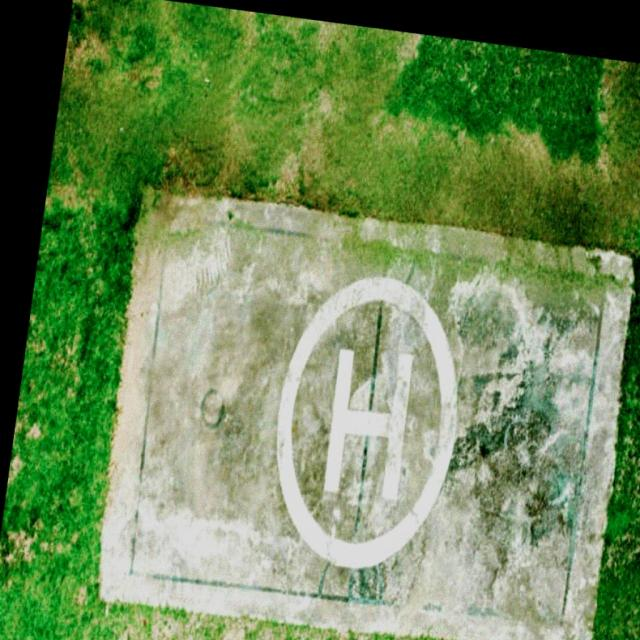helipad: (270, 270, 463, 574)
